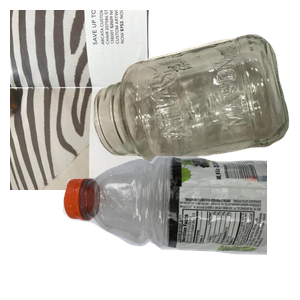glass: (91, 32, 300, 189)
paper: (10, 10, 250, 190)
plastic: (60, 152, 300, 300)
trash: (109, 175, 279, 300)
